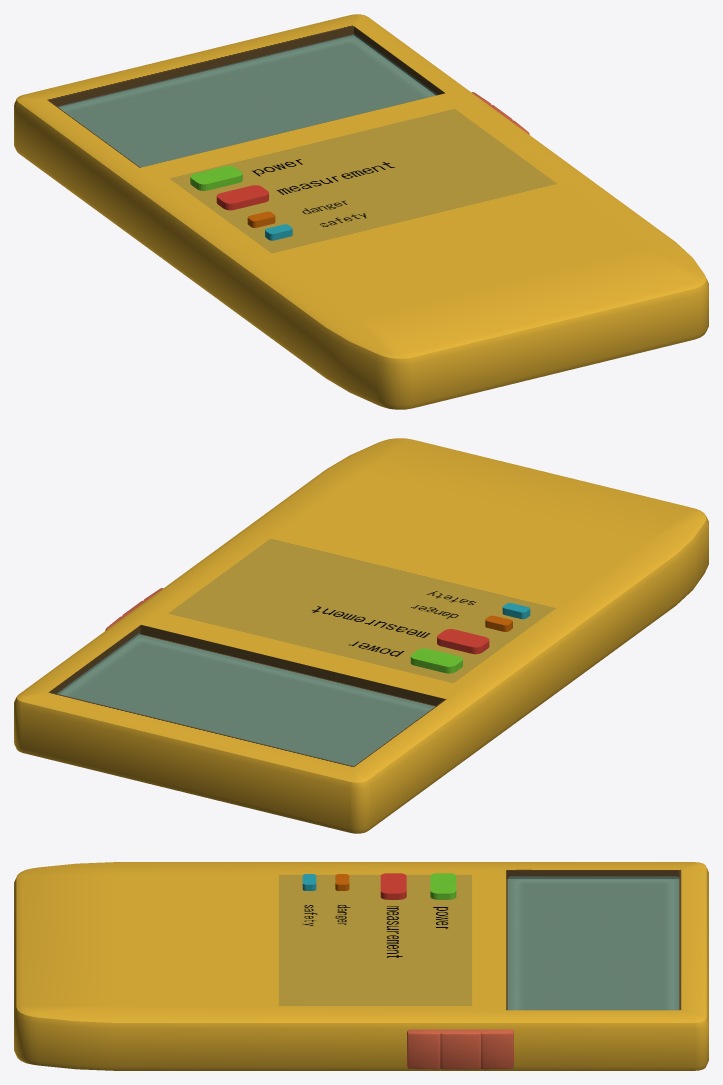
The model's file is RadiationDetector.fbx.
3 views of the same model, one above another, from view 1: azimuth 30°, elevation 25°; view 2: azimuth 150°, elevation 25°; view 3: azimuth 270°, elevation 25° (orthographic). The views are drawn at different scales.
Visible parts, largest first — view 1: radiation_detector; view 2: radiation_detector; view 3: radiation_detector.
Boxes of the visible parts, bbox=[...] form: radiation_detector: bbox=[14, 14, 708, 409]; radiation_detector: bbox=[14, 438, 708, 833]; radiation_detector: bbox=[14, 862, 708, 1070].
Size of the model in its own units: 10.25 by 1.68 by 18.03.
